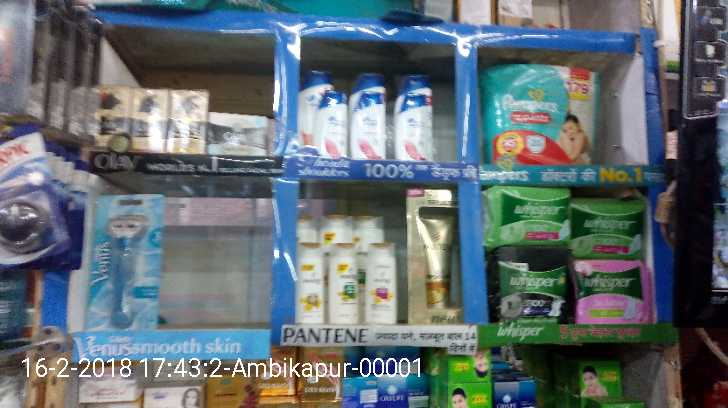venus: (87, 190, 165, 326)
